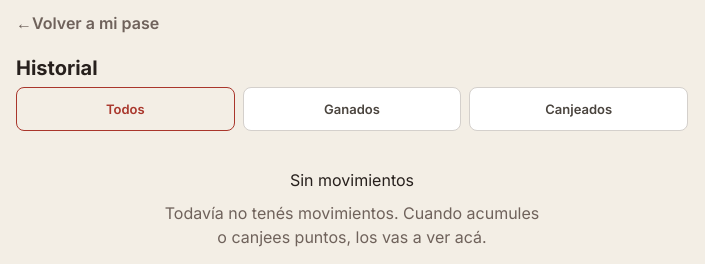
Test: history, honest absence › distinguishes an empty filter from an empty history
Expected: the text "Sin movimientos" is shown, [290,171,414,189]
Click the button "Canjeados".
click(579, 109)  # box [469,87,688,131]
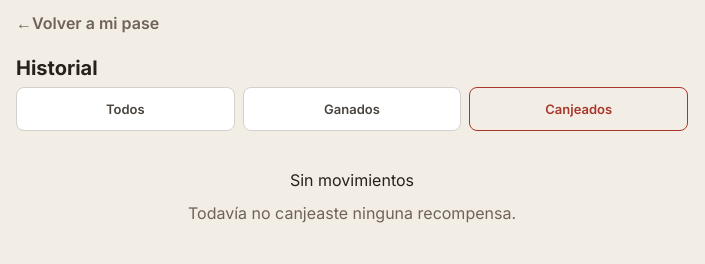
Result: the text "Todavía no canjeaste ninguna recompensa." is shown at [188,201,516,225]
